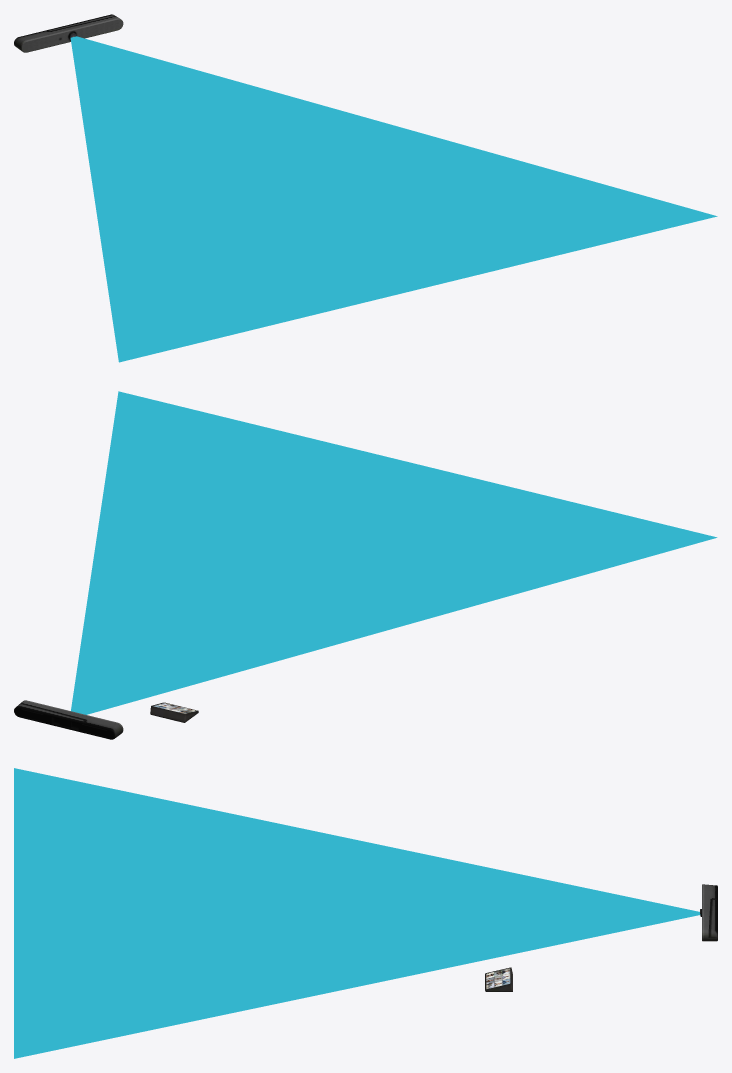
Rendered from SmallProps_LogitechRally_BarMini.glb.
3 views of the same model, one above another, from view 1: azimuth 30°, elevation 25°; view 2: azimuth 150°, elevation 25°; view 3: azimuth 270°, elevation 25° (orthographic).
Visible parts, largest first — view 1: Range_LogitechRally_BarMini, SmallProps_LogitechRally_BarMini_Bar; view 2: Range_LogitechRally_BarMini, SmallProps_LogitechRally_BarMini_Bar, SmallProps_TapIP; view 3: Range_LogitechRally_BarMini, SmallProps_LogitechRally_BarMini_Bar, SmallProps_TapIP.
Part boxes in pixels (<box>): Range_LogitechRally_BarMini: <box>70,36,717,362</box>; SmallProps_LogitechRally_BarMini_Bar: <box>14,14,123,52</box>; Range_LogitechRally_BarMini: <box>71,391,717,714</box>; SmallProps_LogitechRally_BarMini_Bar: <box>14,700,123,739</box>; SmallProps_TapIP: <box>150,702,198,722</box>; Range_LogitechRally_BarMini: <box>14,768,700,1058</box>; SmallProps_LogitechRally_BarMini_Bar: <box>700,884,717,941</box>; SmallProps_TapIP: <box>485,967,512,991</box>.
Bounding box in the file's own units: 4.18 × 0.5156 × 4.28.
4 materials, 3 textured.
